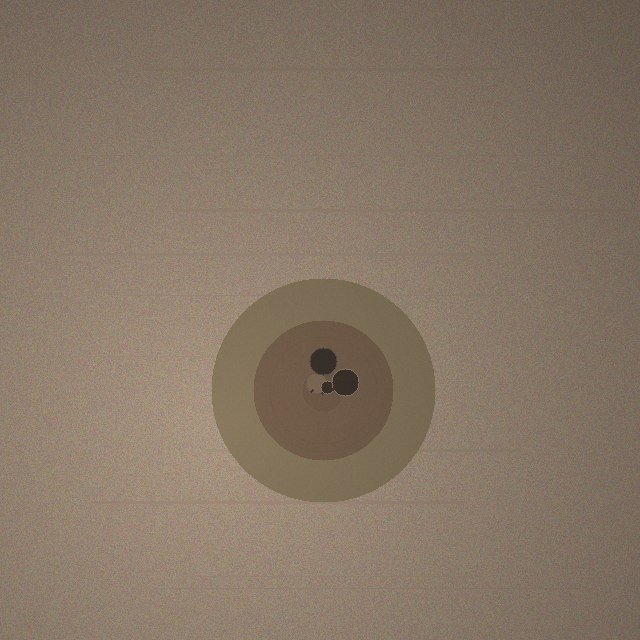shrinkage: (211, 278, 435, 502)
